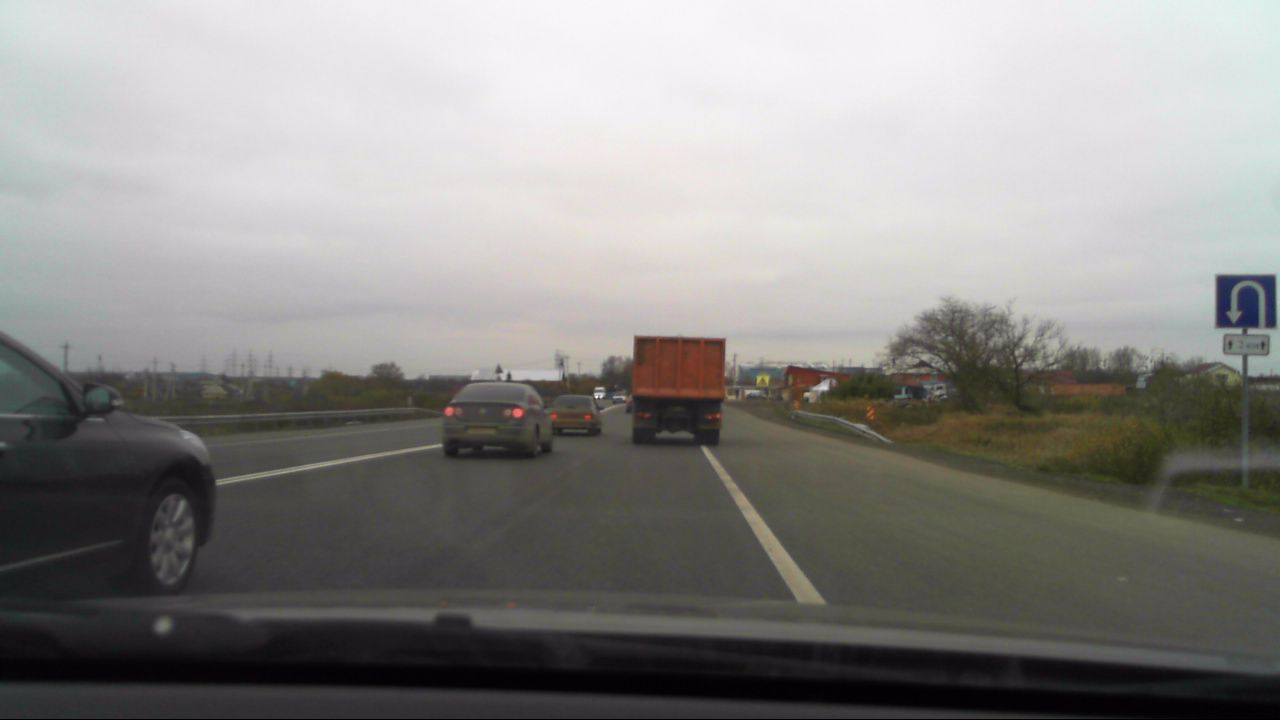U-turn: (1216, 275, 1273, 328)
